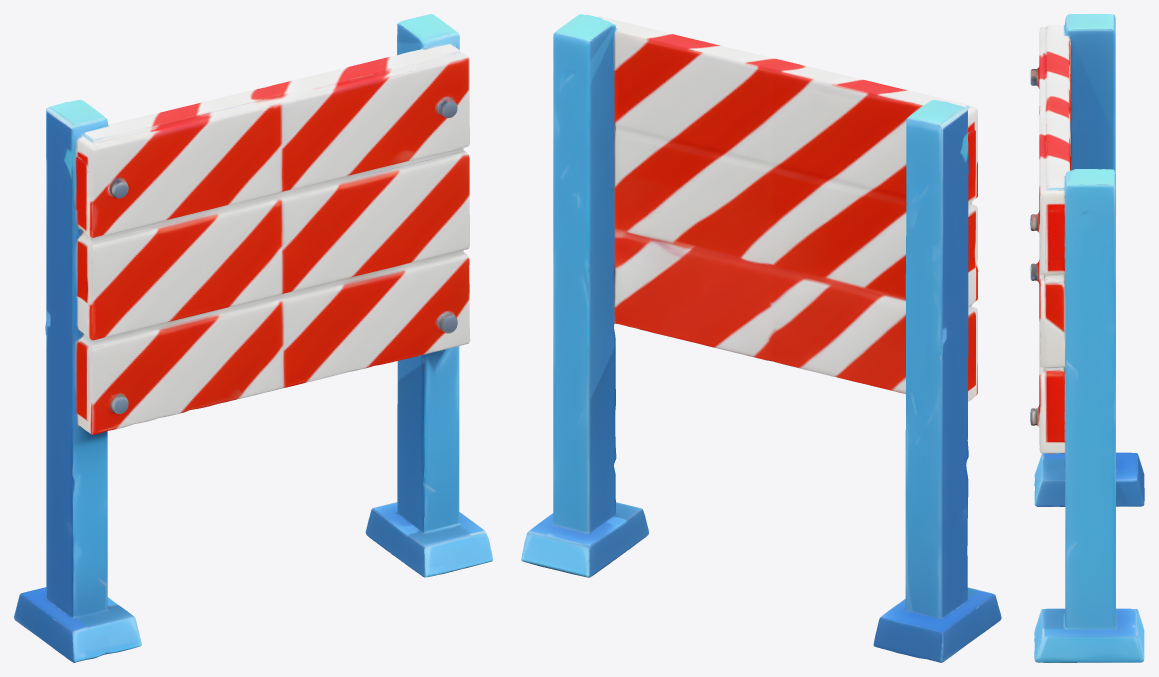
Rendered from lod_basic_shaded.fbx.
3 views of the same model, side by side, from view 1: azimuth 30°, elevation 25°; view 2: azimuth 150°, elevation 25°; view 3: azimuth 270°, elevation 25° (orthographic). The views are drawn at different scales.
Parts seen in each view (by area): view 1: model_LOD0; view 2: model_LOD0; view 3: model_LOD0.
Part boxes in pixels (box(x1,y1,x2,y2)): model_LOD0: box(14, 14, 492, 662); model_LOD0: box(521, 14, 1001, 662); model_LOD0: box(1030, 14, 1144, 662).
Size of what is drawn, in the model's own units: 160 by 190 by 41.53.
